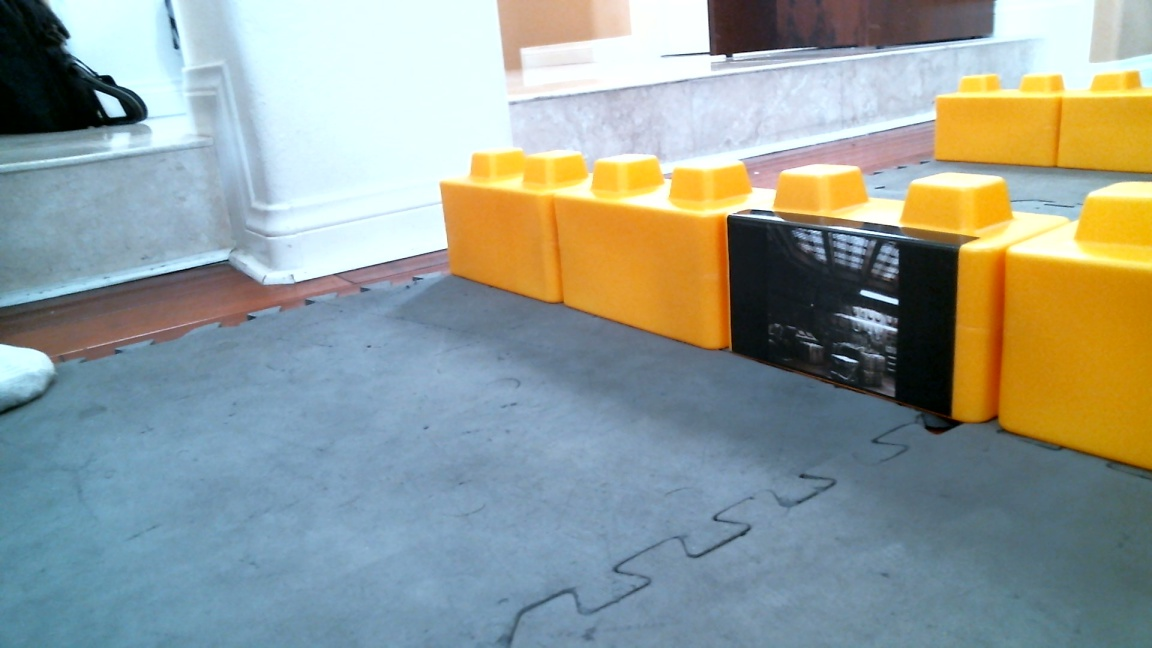skystone: (731, 160, 992, 424)
stone: (994, 199, 1152, 432), (555, 151, 726, 360), (434, 147, 565, 281)
